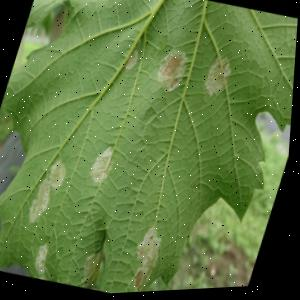Folha: (0, 0, 300, 300)
Fungo: (27, 154, 72, 227), (127, 223, 170, 294), (152, 46, 192, 96), (201, 53, 236, 102), (27, 175, 59, 225), (32, 239, 68, 283), (88, 142, 120, 187), (80, 245, 110, 289), (45, 157, 72, 191), (123, 46, 141, 75)
